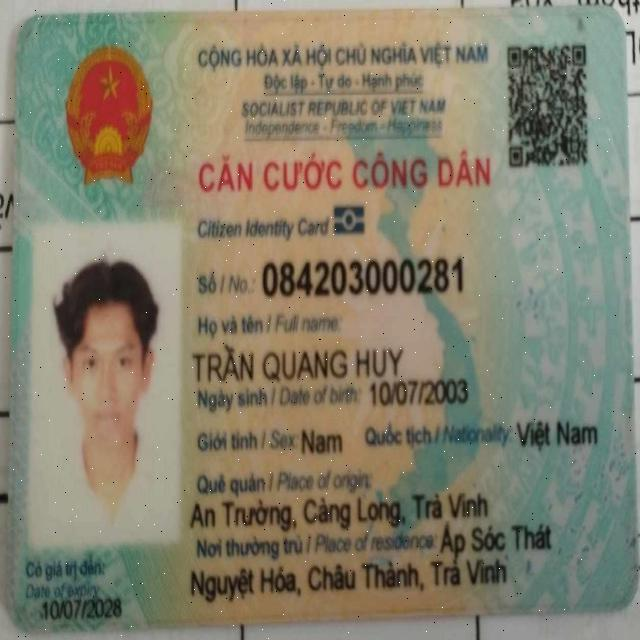current_place: (189, 552, 512, 609), (440, 519, 554, 559)
dob: (370, 376, 469, 411)
expire_date: (40, 593, 126, 623)
gender: (301, 425, 343, 458)
id: (258, 246, 465, 306)
name: (191, 341, 405, 387)
nationality: (514, 414, 600, 453)
origin_place: (187, 490, 487, 531)
qr: (506, 39, 591, 169)
